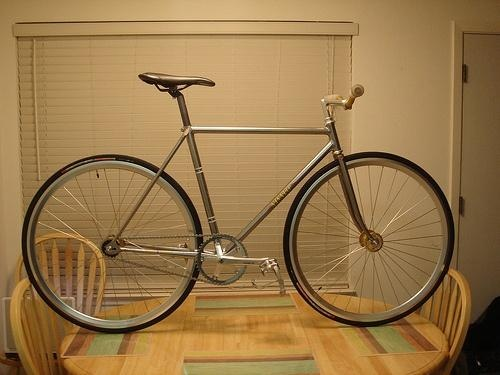bicycle: (20, 61, 472, 331)
chair: (12, 234, 111, 318), (410, 269, 475, 375), (12, 277, 67, 375)
diningtable: (58, 285, 451, 375)
